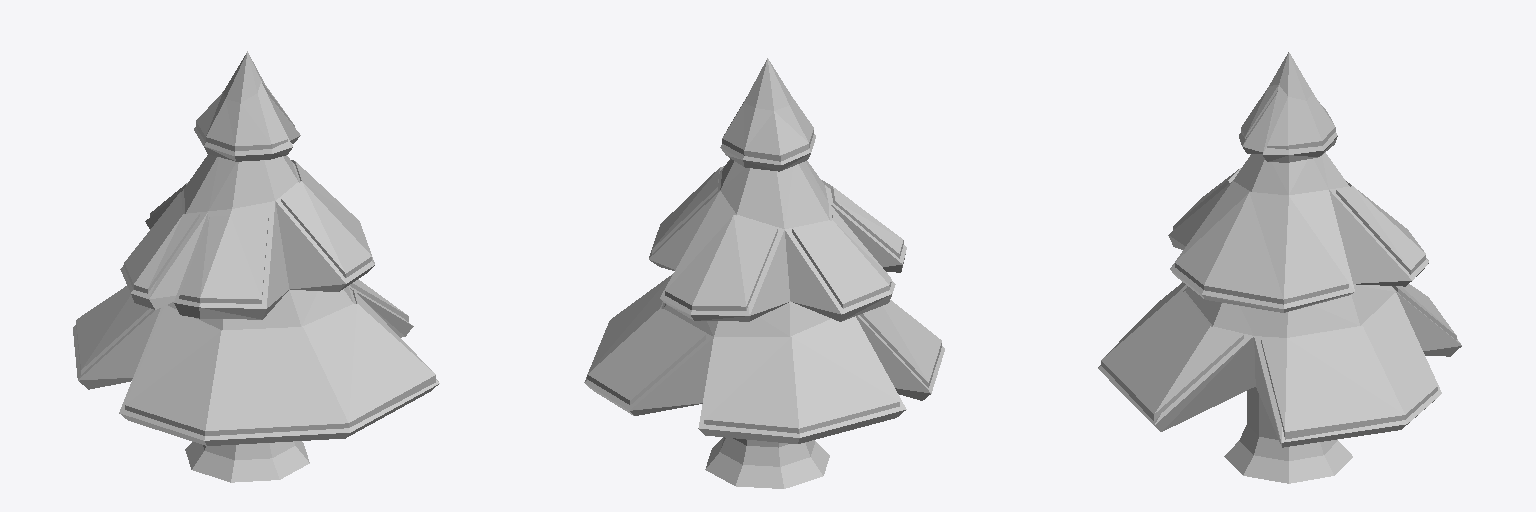
The model's file is winter-tree8.obj.
3 renders of one model, left to right at view 1: azimuth 30°, elevation 25°; view 2: azimuth 150°, elevation 25°; view 3: azimuth 270°, elevation 25°, orthographic.
Visible parts, largest first — view 1: Cylinder.004_Cylinder.003; view 2: Cylinder.004_Cylinder.003; view 3: Cylinder.004_Cylinder.003.
Part boxes in pixels (bbox=[...]): Cylinder.004_Cylinder.003: bbox=[73, 51, 439, 482]; Cylinder.004_Cylinder.003: bbox=[584, 58, 944, 488]; Cylinder.004_Cylinder.003: bbox=[1098, 52, 1461, 483].
Size of the model in its own units: 3.15 by 3.85 by 3.14.